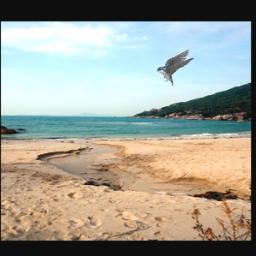Swallow: (157, 50, 194, 88)
